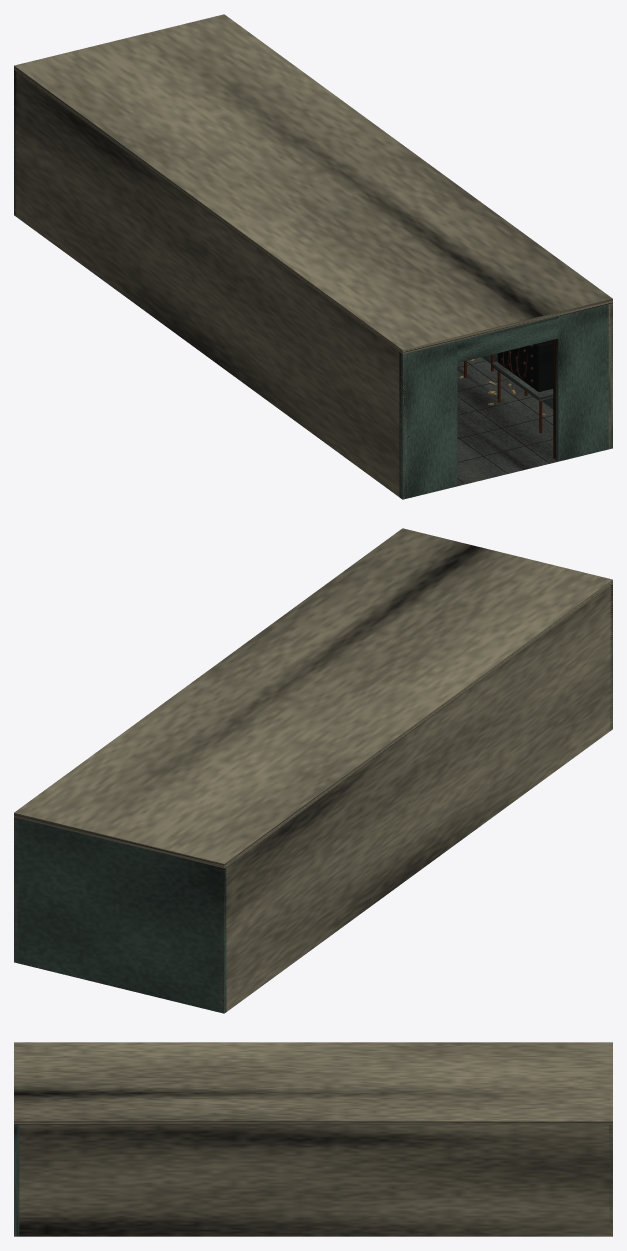
Rendered from switchboard.glb.
3 views of the same model, one above another, from view 1: azimuth 30°, elevation 25°; view 2: azimuth 150°, elevation 25°; view 3: azimuth 270°, elevation 25° (orthographic). The views are drawn at different scales.
Parts seen in each view (by area): view 1: static-plaster, static-paint, static-stone, static-dark, static-rust; view 2: static-plaster, static-paint; view 3: static-plaster, static-paint.
Part boxes in pixels (x1,y1,x2,y2): static-plaster: [14, 14, 612, 499]; static-paint: [14, 70, 612, 499]; static-stone: [457, 357, 557, 486]; static-dark: [457, 340, 553, 482]; static-rust: [407, 339, 607, 459]; static-plaster: [14, 528, 612, 1013]; static-paint: [14, 584, 612, 1013]; static-plaster: [14, 1042, 612, 1236]; static-paint: [14, 1124, 612, 1236].
Size of the model in its own units: 5 by 3.4 by 16.
13 materials, 9 textured.
